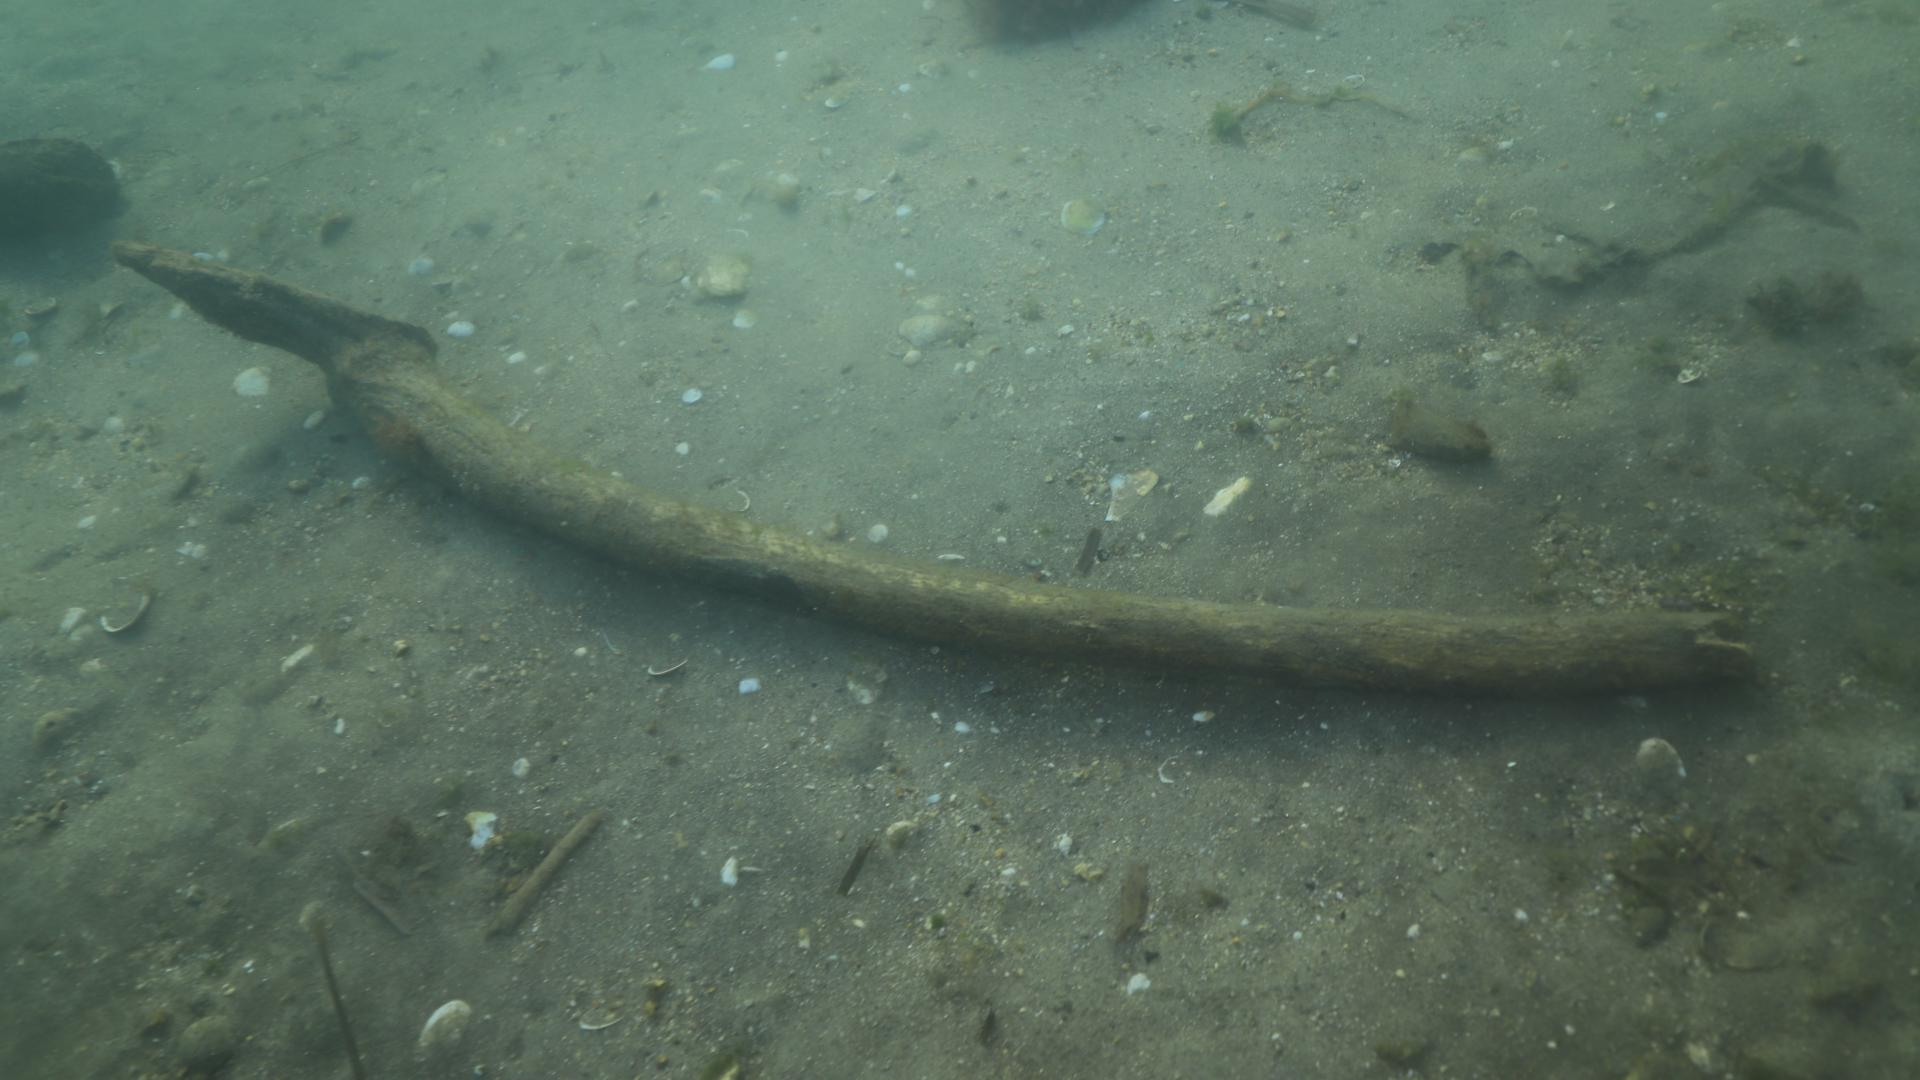wood: (108, 239, 1762, 708)
